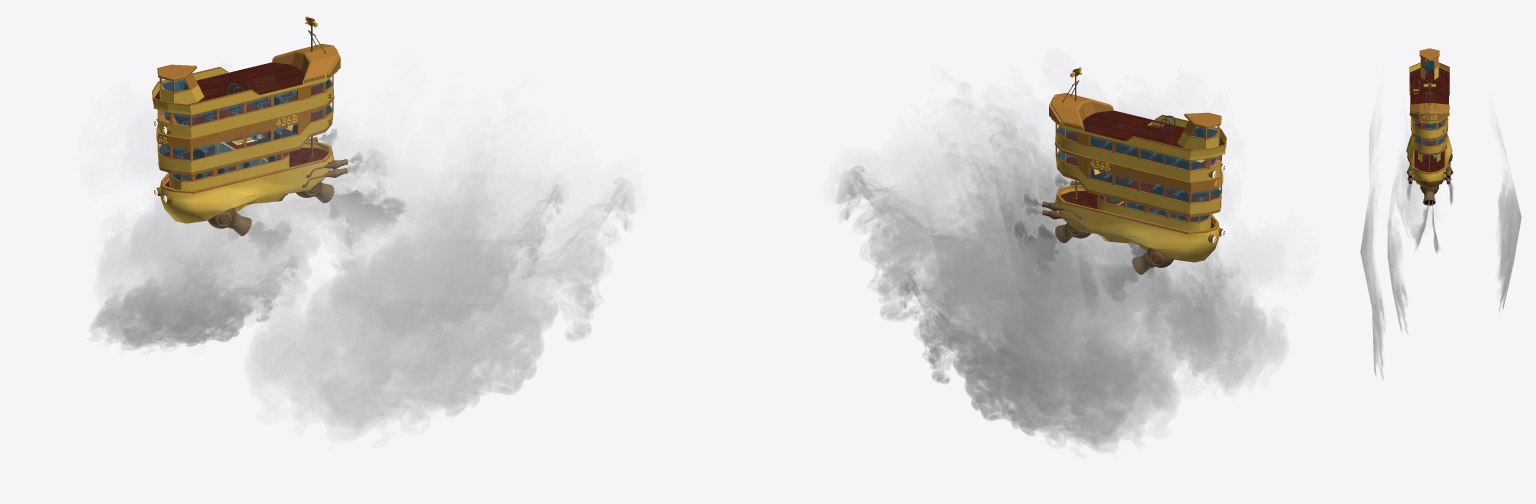
The picture shows the model from 3 angles, left to right: view 1: azimuth 30°, elevation 25°; view 2: azimuth 150°, elevation 25°; view 3: azimuth 270°, elevation 25°; orthographic projection. The views are drawn at different scales.
Parts seen in each view (by area): view 1: 1515003598Smoke-PNG-Transparent-Image-3.001, 1515003598Smoke-PNG-Transparent-Image-3, 1515003598Smoke-PNG-Transparent-Image-3.003, 1515003598Smoke-PNG-Transparent-Image-3.002, Cube, Cube.004, Cube.001, Smoke_Transparent_Large_PNG_Image.002, Cube.044, Cube.045, Smoke_Transparent_Large_PNG_Image.001, Smoke_Transparent_Large_PNG_Image.007; view 2: 1515003598Smoke-PNG-Transparent-Image-3.001, 1515003598Smoke-PNG-Transparent-Image-3, 1515003598Smoke-PNG-Transparent-Image-3.003, 1515003598Smoke-PNG-Transparent-Image-3.002, Cube, Cube.004, Cube.001, Smoke_Transparent_Large_PNG_Image.007, Cube.044, Cube.045, Smoke_Transparent_Large_PNG_Image, Smoke_Transparent_Large_PNG_Image.002; view 3: Cube.004, 1515003598Smoke-PNG-Transparent-Image-3.001, 1515003598Smoke-PNG-Transparent-Image-3, 1515003598Smoke-PNG-Transparent-Image-3.002, Cube, 1515003598Smoke-PNG-Transparent-Image-3.003, Cube.001, Smoke_Transparent_Large_PNG_Image.002.
Boxes of the visible parts, x1=… form: 1515003598Smoke-PNG-Transparent-Image-3.001: x1=246, y1=111, x2=637, y2=439; 1515003598Smoke-PNG-Transparent-Image-3: x1=95, y1=120, x2=387, y2=345; 1515003598Smoke-PNG-Transparent-Image-3.003: x1=333, y1=148, x2=563, y2=334; 1515003598Smoke-PNG-Transparent-Image-3.002: x1=91, y1=221, x2=299, y2=349; Cube: x1=156, y1=96, x2=334, y2=223; Cube.004: x1=152, y1=43, x2=340, y2=114; Cube.001: x1=157, y1=75, x2=333, y2=138; Smoke_Transparent_Large_PNG_Image.002: x1=331, y1=190, x2=406, y2=253; Cube.044: x1=158, y1=102, x2=332, y2=159; Cube.045: x1=159, y1=77, x2=331, y2=125; Smoke_Transparent_Large_PNG_Image.001: x1=246, y1=220, x2=292, y2=262; Smoke_Transparent_Large_PNG_Image.007: x1=328, y1=188, x2=384, y2=246; 1515003598Smoke-PNG-Transparent-Image-3.001: x1=835, y1=100, x2=1206, y2=409; 1515003598Smoke-PNG-Transparent-Image-3: x1=898, y1=223, x2=1179, y2=451; 1515003598Smoke-PNG-Transparent-Image-3.003: x1=870, y1=153, x2=1098, y2=335; 1515003598Smoke-PNG-Transparent-Image-3.002: x1=1137, y1=243, x2=1288, y2=395; Cube: x1=1055, y1=142, x2=1222, y2=262; Cube.004: x1=1049, y1=93, x2=1226, y2=160; Cube.001: x1=1055, y1=123, x2=1221, y2=181; Smoke_Transparent_Large_PNG_Image.007: x1=998, y1=231, x2=1060, y2=289; Cube.044: x1=1057, y1=148, x2=1220, y2=202; Cube.045: x1=1057, y1=124, x2=1220, y2=169; Smoke_Transparent_Large_PNG_Image: x1=1096, y1=262, x2=1137, y2=302; Smoke_Transparent_Large_PNG_Image.002: x1=1013, y1=220, x2=1058, y2=276; Cube.004: x1=1409, y1=48, x2=1449, y2=123; 1515003598Smoke-PNG-Transparent-Image-3.001: x1=1360, y1=115, x2=1384, y2=380; 1515003598Smoke-PNG-Transparent-Image-3: x1=1496, y1=121, x2=1521, y2=311; 1515003598Smoke-PNG-Transparent-Image-3.002: x1=1396, y1=117, x2=1442, y2=239; Cube: x1=1406, y1=117, x2=1452, y2=181; 1515003598Smoke-PNG-Transparent-Image-3.003: x1=1387, y1=177, x2=1407, y2=334; Cube.001: x1=1411, y1=91, x2=1447, y2=138; Smoke_Transparent_Large_PNG_Image.002: x1=1410, y1=200, x2=1429, y2=249.
Size of the model in its own units: 29.19 by 24.3 by 9.78.
Materials: 17 (3 with a texture image).
